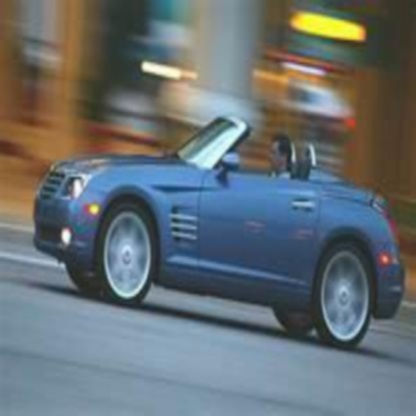Vehicle: (34, 120, 408, 354)
